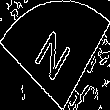N_SW: (32, 22, 78, 88)
